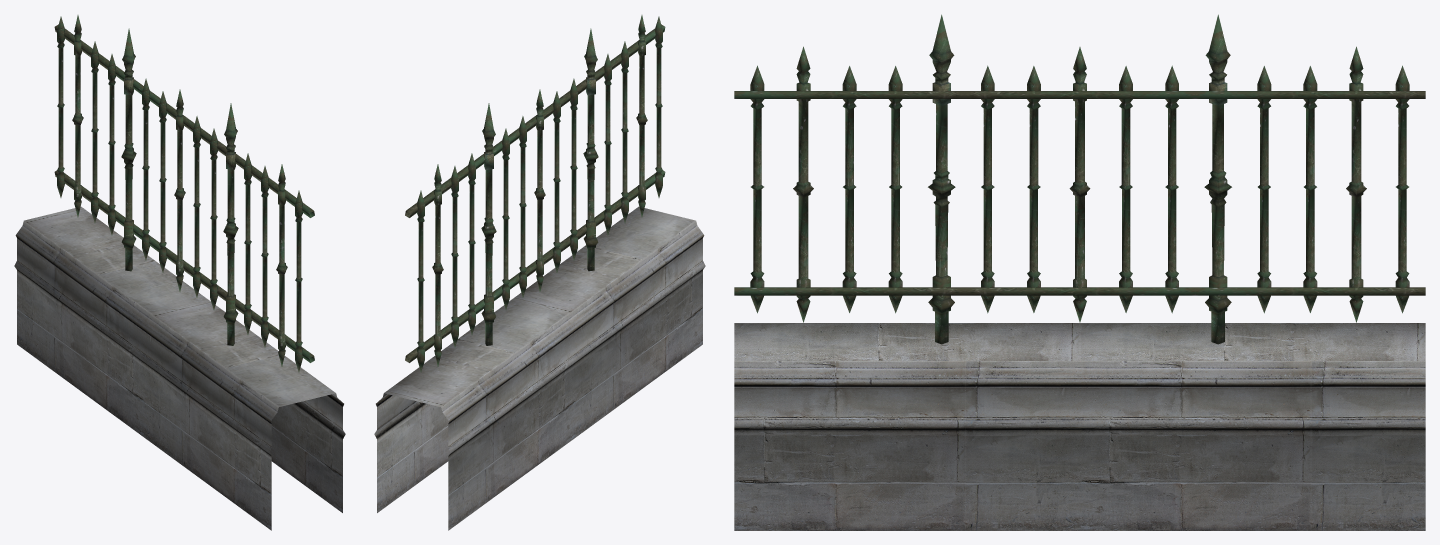
File: StoneFence_Wall_LOD1.fbx
3 views of the same model, side by side, from view 1: azimuth 30°, elevation 25°; view 2: azimuth 150°, elevation 25°; view 3: azimuth 270°, elevation 25° (orthographic). The views are drawn at different scales.
Parts seen in each view (by area): view 1: StoneFence_Wall_LOD1; view 2: StoneFence_Wall_LOD1; view 3: StoneFence_Wall_LOD1.
Part boxes in pixels (box(x1,y1,x2,y2)): StoneFence_Wall_LOD1: box(14, 15, 345, 530); StoneFence_Wall_LOD1: box(374, 15, 705, 530); StoneFence_Wall_LOD1: box(734, 14, 1425, 530).
Size of the model in its own units: 52.03 by 236 by 300.
